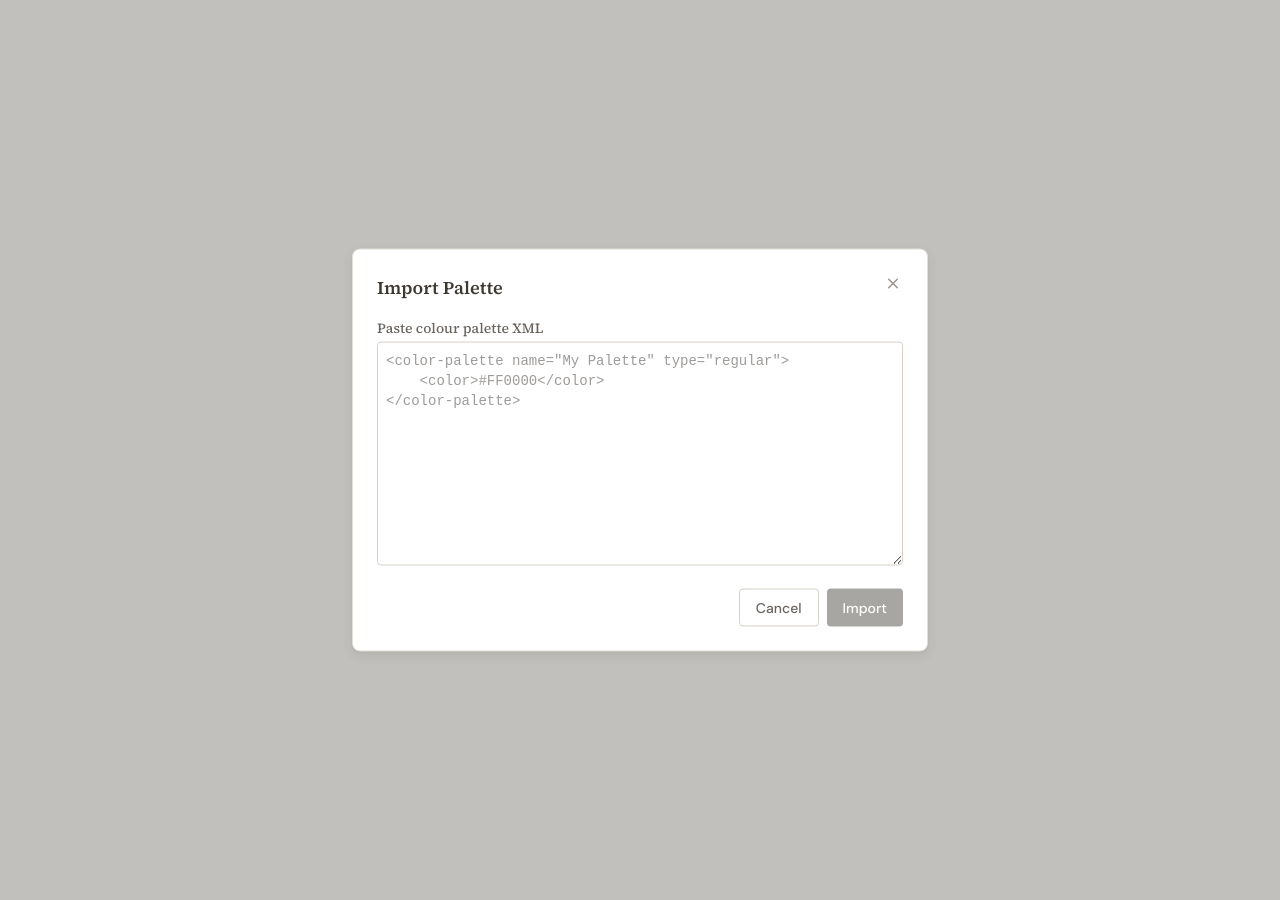
Scenario: ImportModal › enables the Import button for valid XML
Step 1. Type "<color-palette name=\"Test\" type=\"regular\"><color>#FF0000</color></color-palette>" into the text box → (640, 454), box [377,342,903,566]
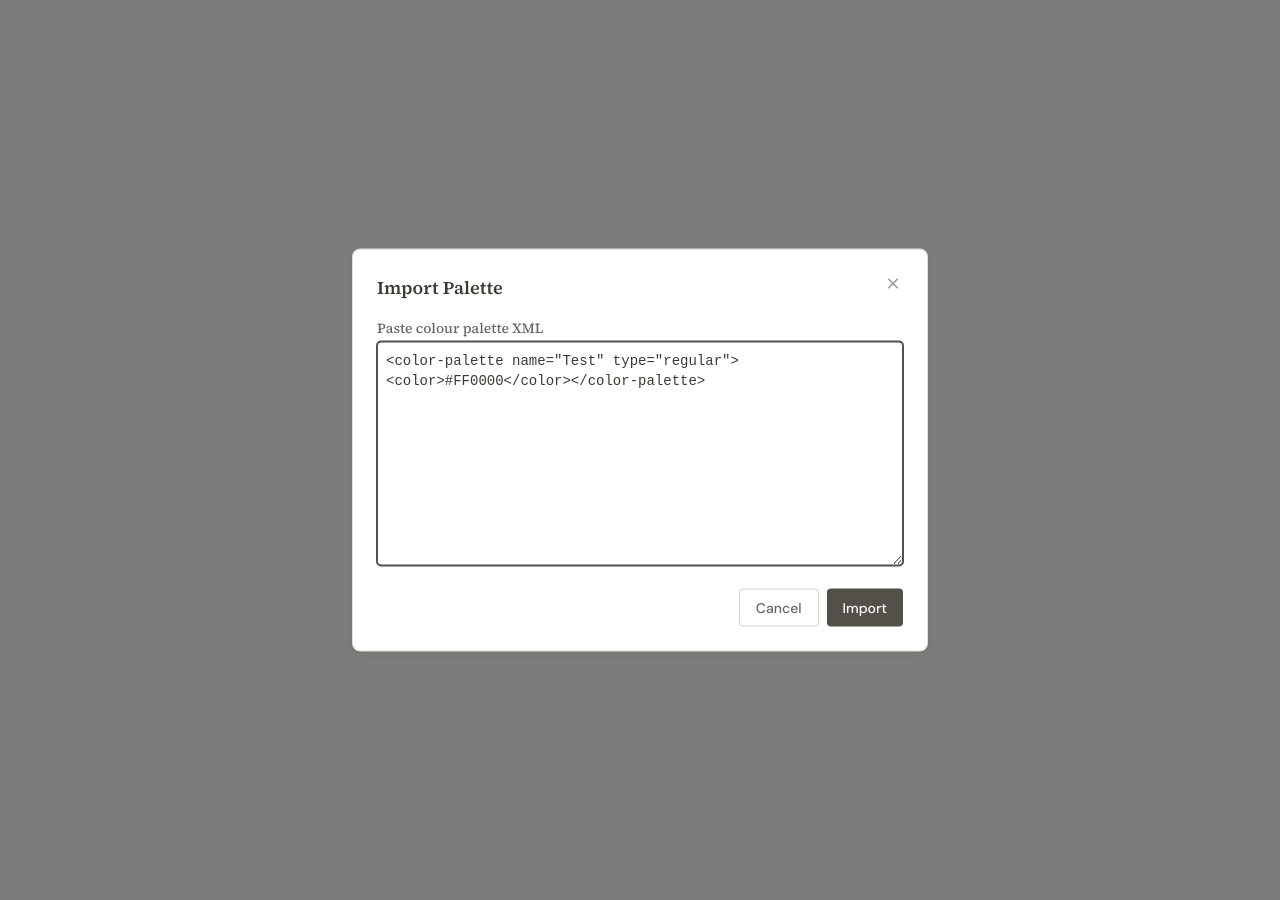
Expected: the button "Import" is enabled, [827,588,903,626]
